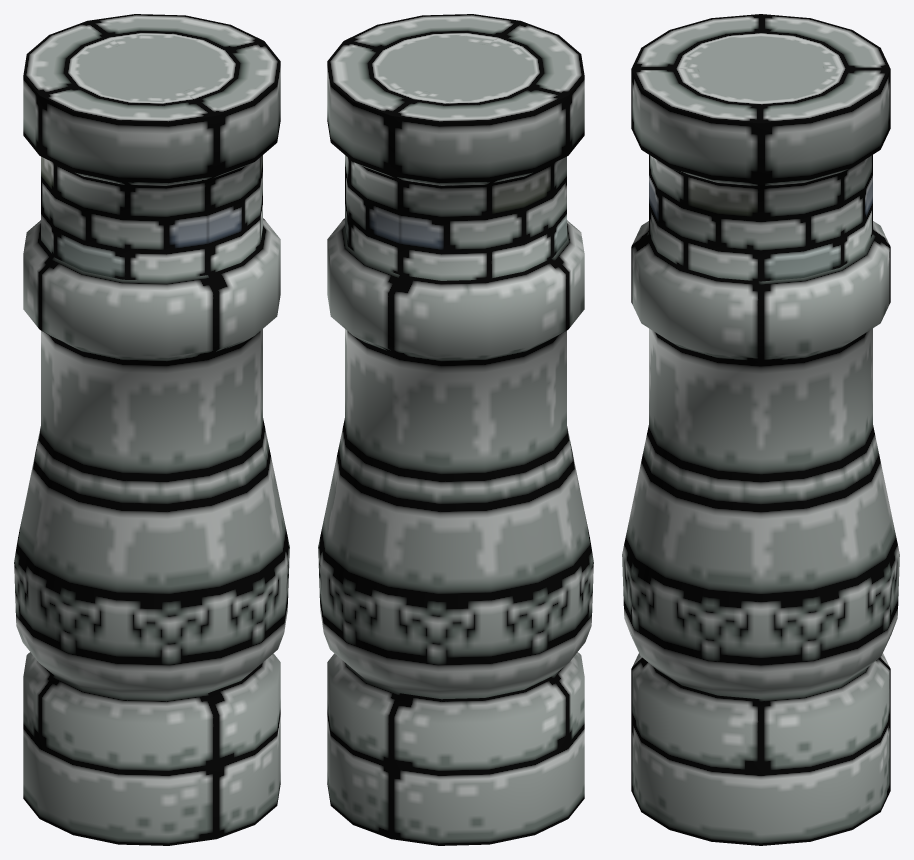
Rendered from deco_cathedral_pillarB.FBX.
3 renders of one model, left to right at view 1: azimuth 30°, elevation 25°; view 2: azimuth 150°, elevation 25°; view 3: azimuth 270°, elevation 25°, orthographic.
Parts seen in each view (by area): view 1: deco_cathedral_pillarB; view 2: deco_cathedral_pillarB; view 3: deco_cathedral_pillarB.
Part boxes in pixels (<box>): deco_cathedral_pillarB: <box>14,14,289,845</box>; deco_cathedral_pillarB: <box>318,14,593,845</box>; deco_cathedral_pillarB: <box>622,14,899,845</box>.
Size of the model in its own units: 1.39 by 4 by 1.39.
Materials: 1 (1 with a texture image).
